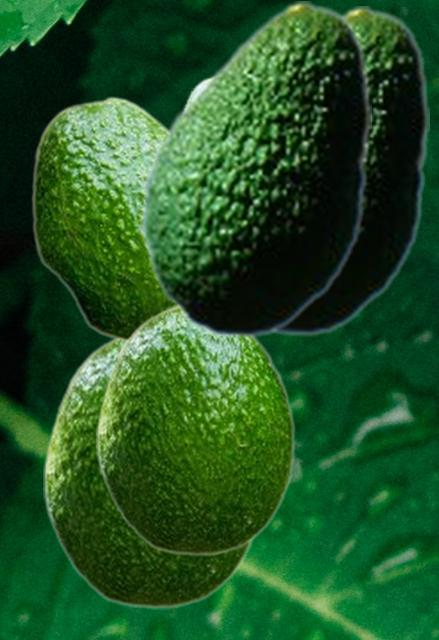avocado: (140, 1, 370, 338), (43, 338, 259, 608), (271, 6, 428, 336), (96, 303, 295, 555), (30, 95, 172, 343)
